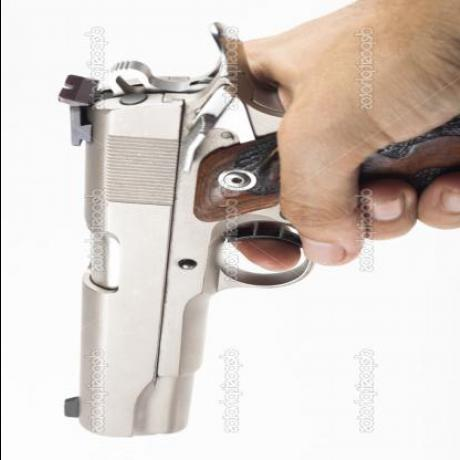1: (221, 0, 460, 270)
weapon: (29, 21, 460, 440)
